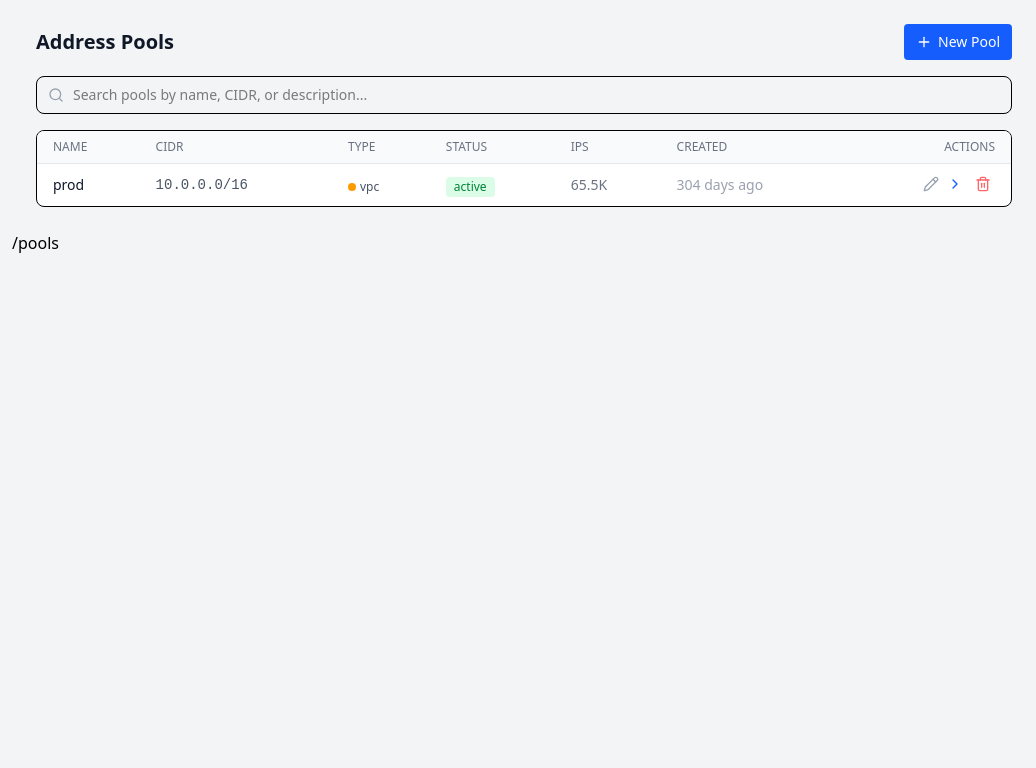
PoolsPage validation › renders create server errors inline and as a toast
This screenshot has width=1036, height=768.
Click the button "New Pool" at (958, 42), box [904, 24, 1012, 60]
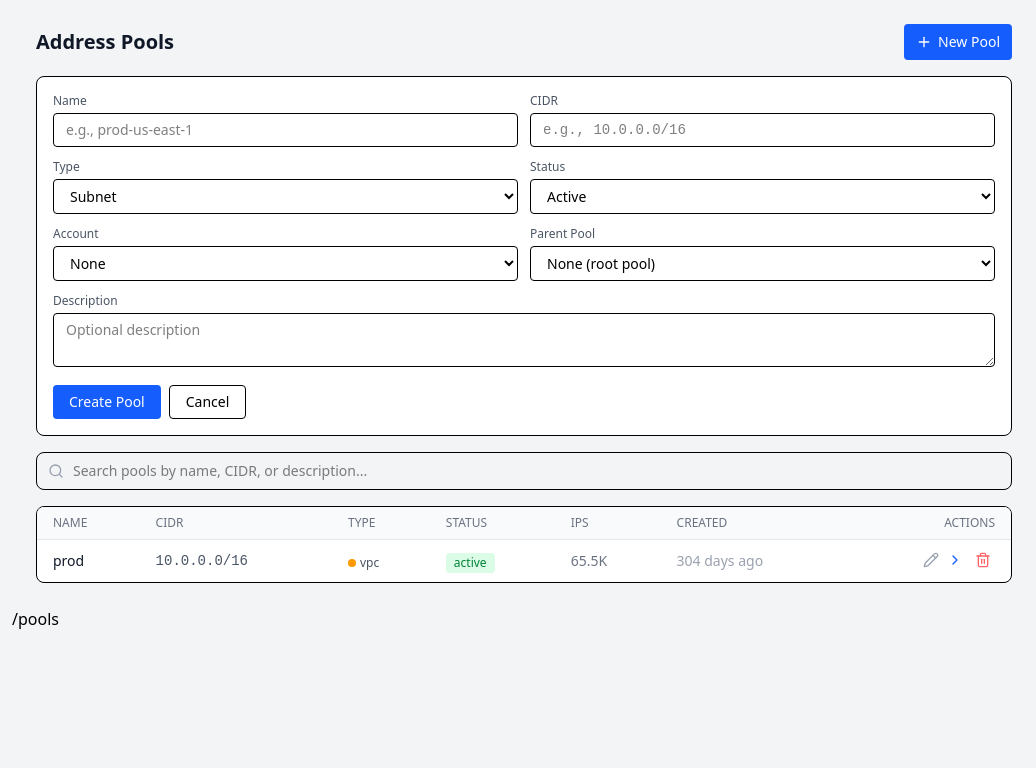
Type " prod child " into the field labelled "Name" at (286, 130), box [53, 113, 518, 147]
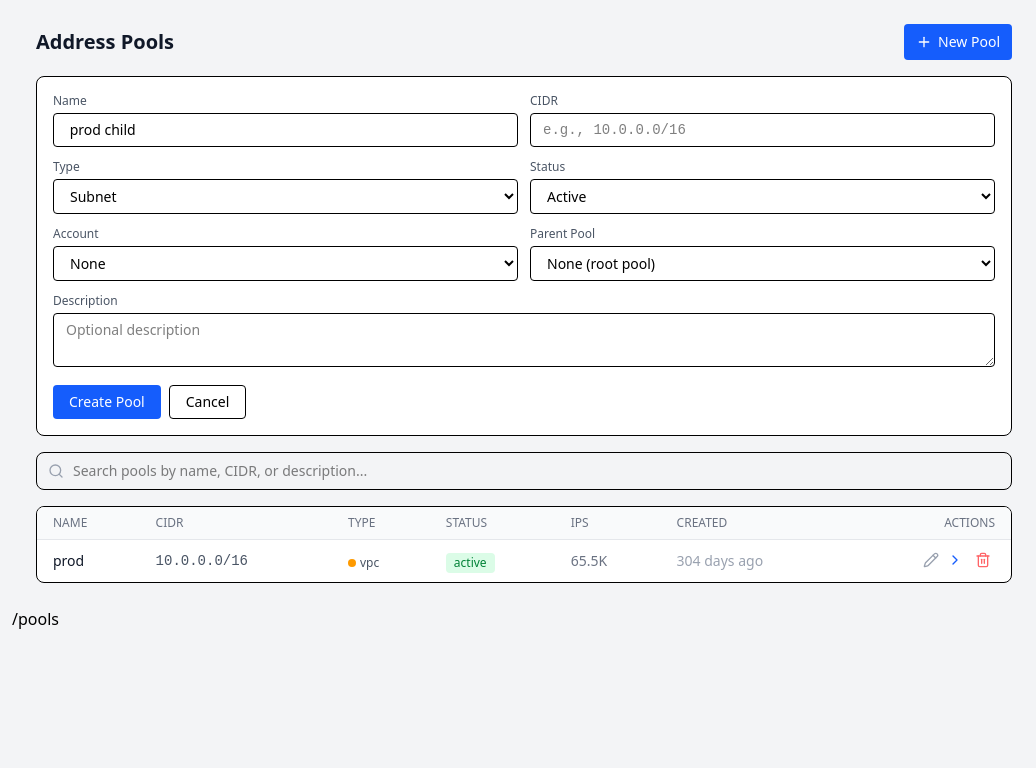
Type " 10.0.1.0/24 " into the field labelled "CIDR" at (762, 130), box [530, 113, 995, 147]
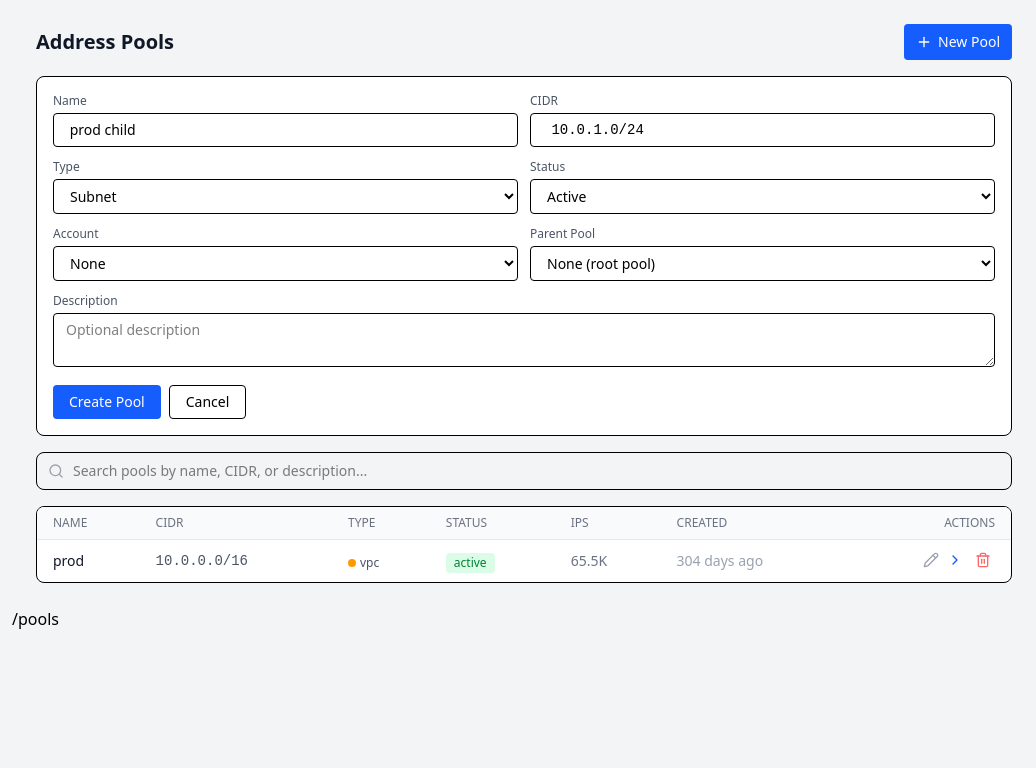
Click the button "Create Pool" at (107, 402), box [53, 385, 161, 419]
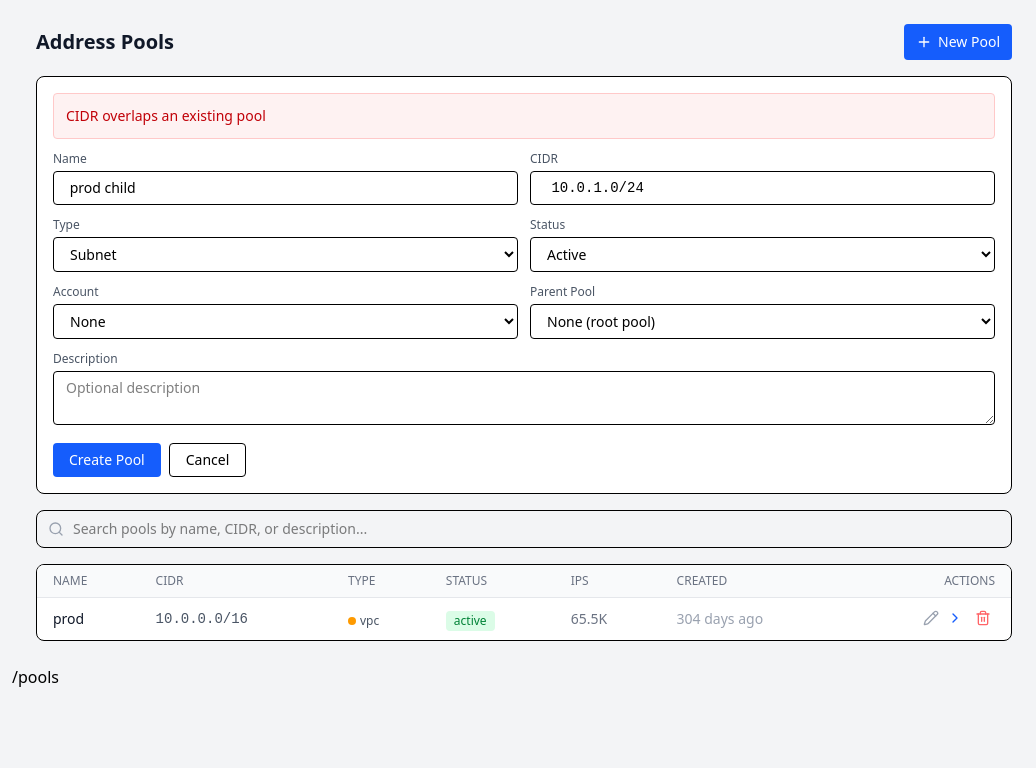
Result: the message reads "CIDR overlaps an existing pool" at [66, 106, 266, 125]
